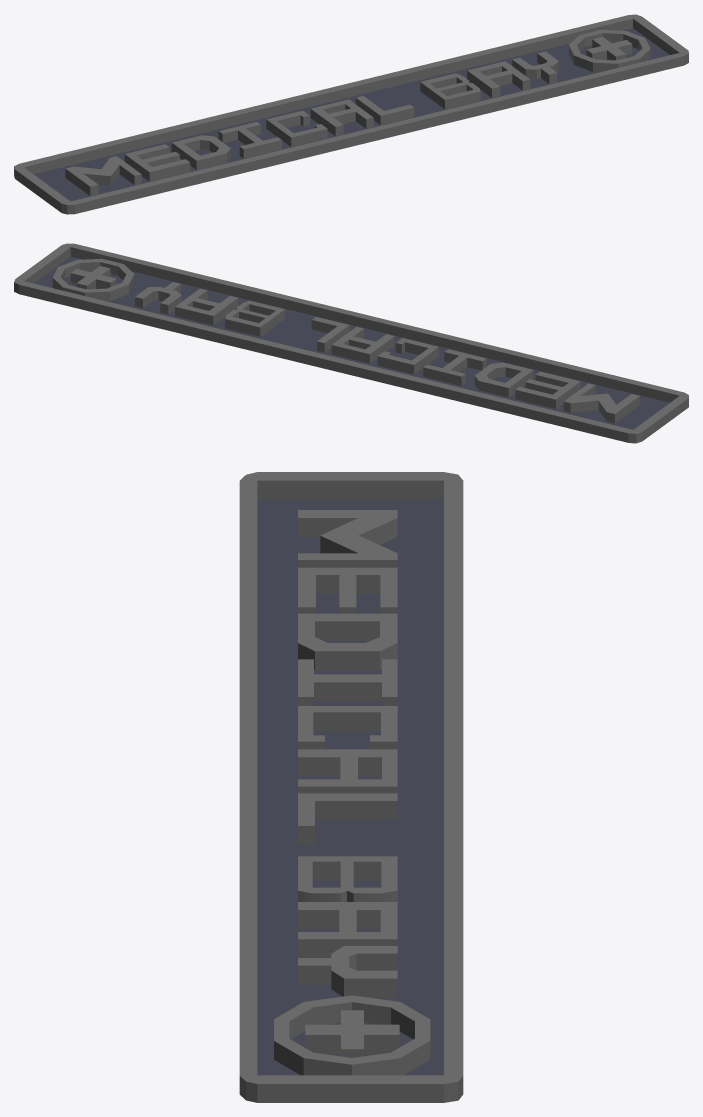
The model's file is mdlMedibaySign.fbx.
3 renders of one model, top to bottom at view 1: azimuth 30°, elevation 25°; view 2: azimuth 150°, elevation 25°; view 3: azimuth 270°, elevation 25°, orthographic. The views are drawn at different scales.
Parts seen in each view (by area): view 1: MedibaySign; view 2: MedibaySign; view 3: MedibaySign.
Boxes of the visible parts, x1,y1,x2,y2 form: MedibaySign: [14, 14, 688, 214]; MedibaySign: [14, 243, 688, 443]; MedibaySign: [239, 472, 463, 1102].
Bounding box in the file's own units: 7.61 × 0.1099 × 1.18.
1 material, 1 textured.
